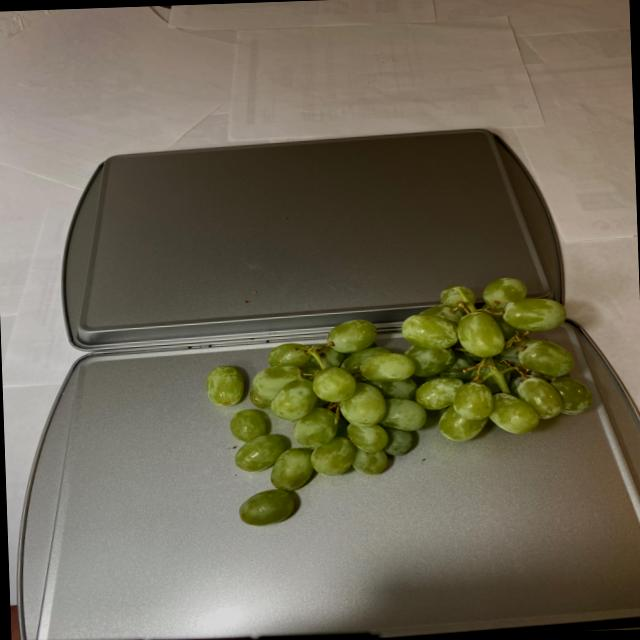grapes: (200, 272, 600, 524)
